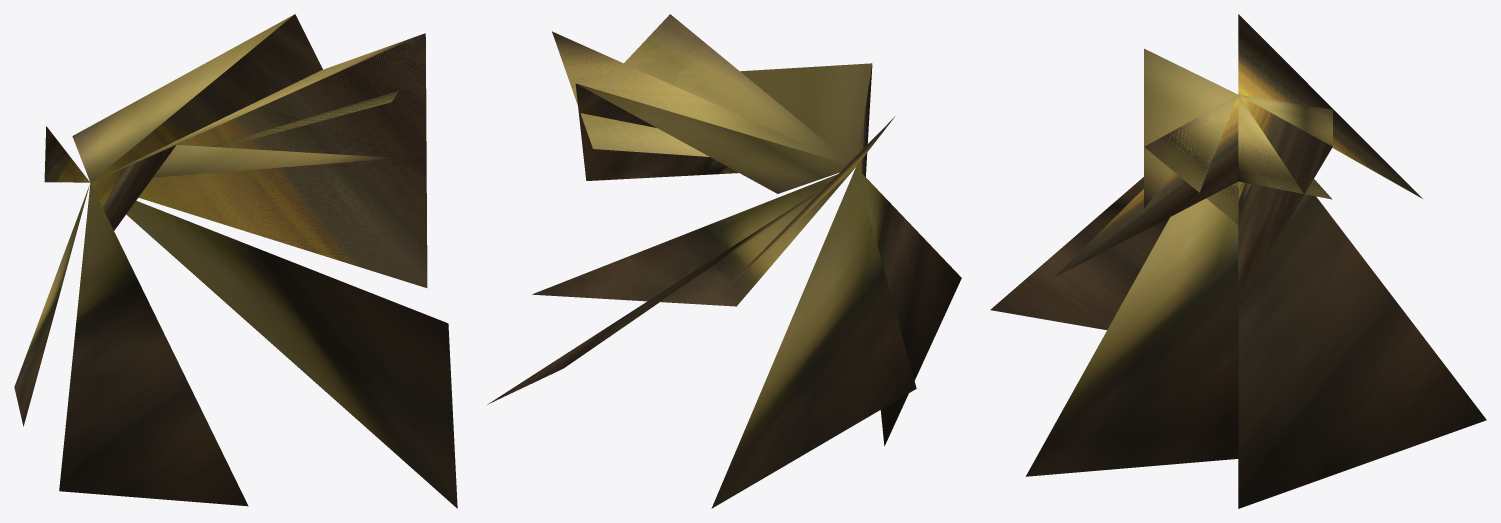
File: gold.gltf
3 renders of one model, left to right at view 1: azimuth 30°, elevation 25°; view 2: azimuth 150°, elevation 25°; view 3: azimuth 270°, elevation 25°, orthographic. The views are drawn at different scales.
Visible parts, largest first — view 1: Box01; view 2: Box01; view 3: Box01.
Boxes of the visible parts, x1,y1,x2,y2 form: Box01: (14, 14, 457, 508); Box01: (487, 14, 961, 508); Box01: (990, 14, 1486, 508).
Bounding box in the file's own units: 44.4 × 36.81 × 49.75.
Materials: 1 (1 with a texture image).
